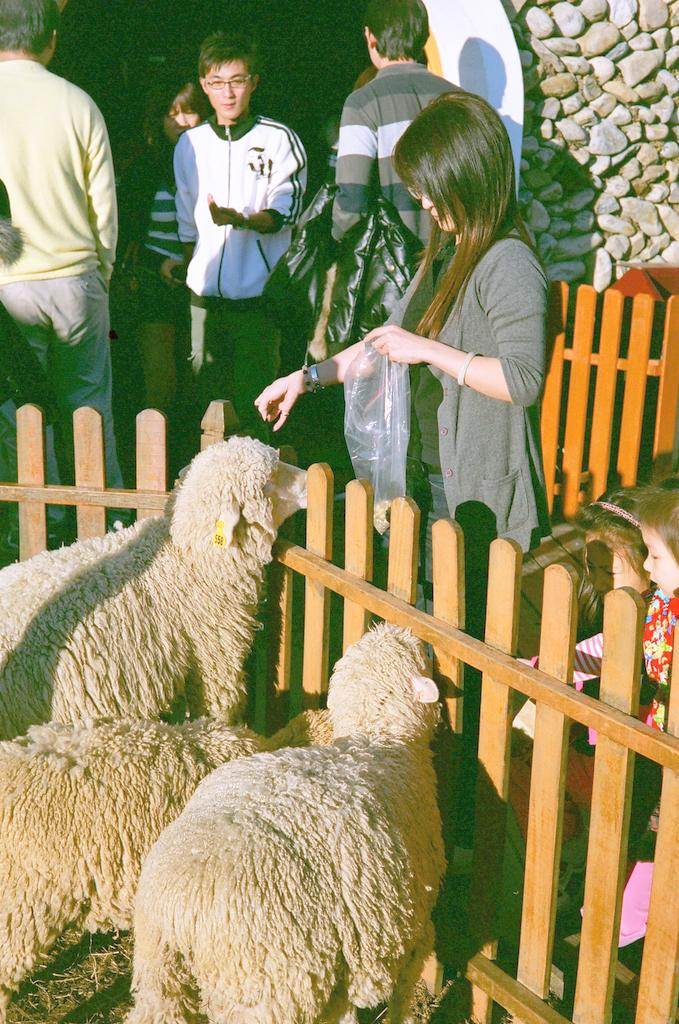Sheep: (122, 620, 442, 1024), (0, 434, 307, 742), (0, 730, 265, 1021)
